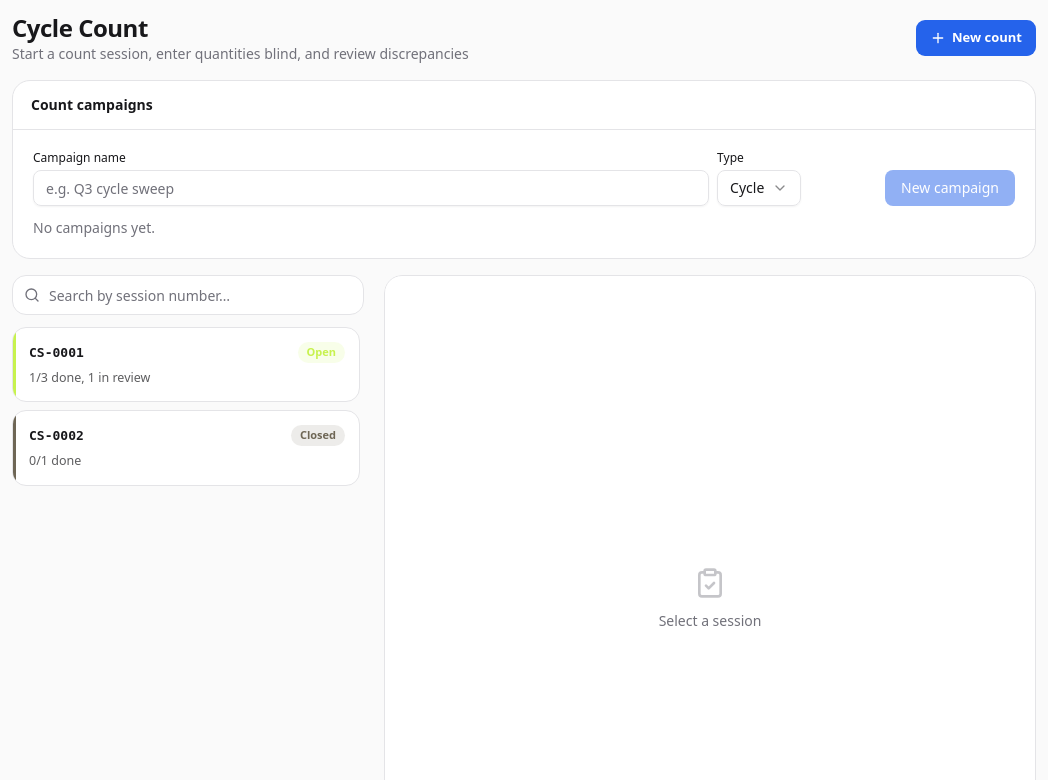
Test: CycleCountPage › order card opens count entry (state 50) and review (state 500) in the pane
The image size is (1048, 780).
Click the button with test id "session-row-1" at (56, 352), box [12, 327, 360, 402]
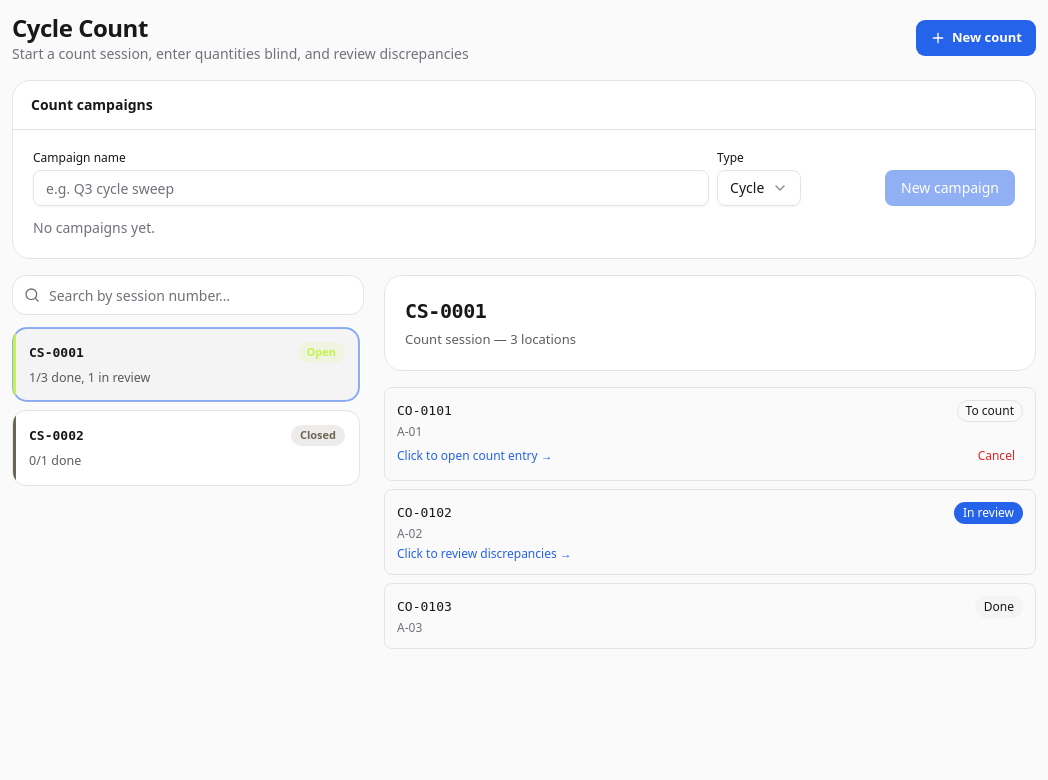
Click the element with test id "order-row-101" at (710, 434), box [384, 386, 1036, 480]
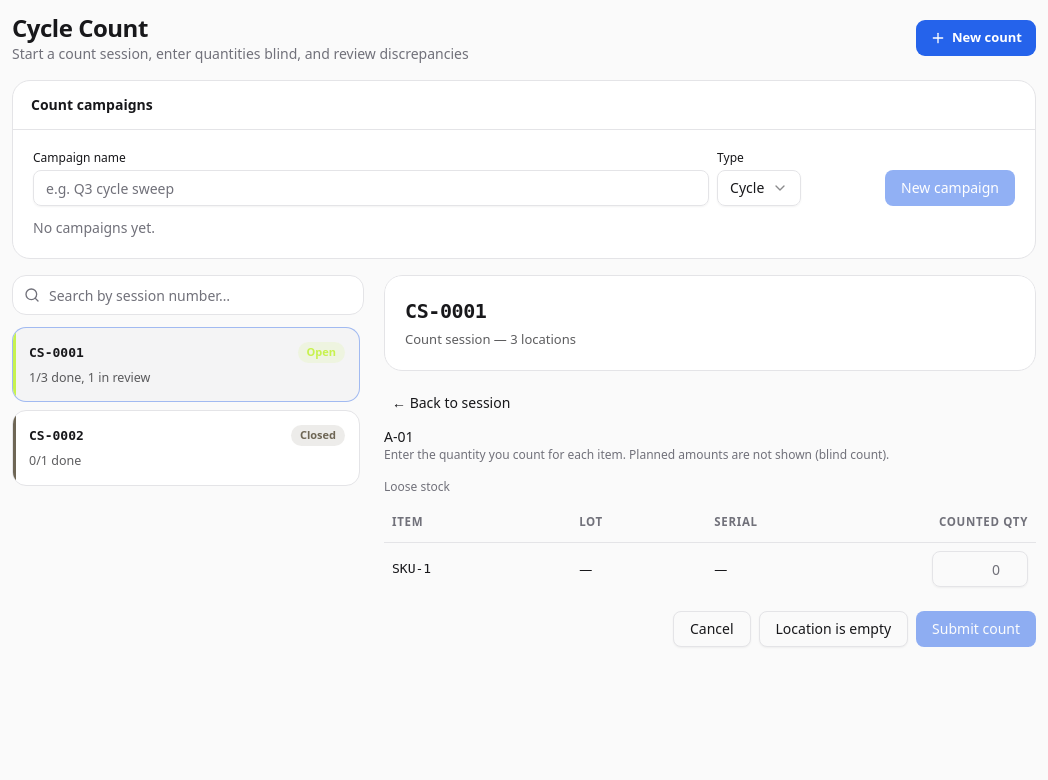
Expected: the element with test id "count-entry-table" is shown, [384, 478, 1036, 595]
Back to session, then open the review order.
Click the button "← Back to session" at (451, 402), box [380, 386, 522, 418]
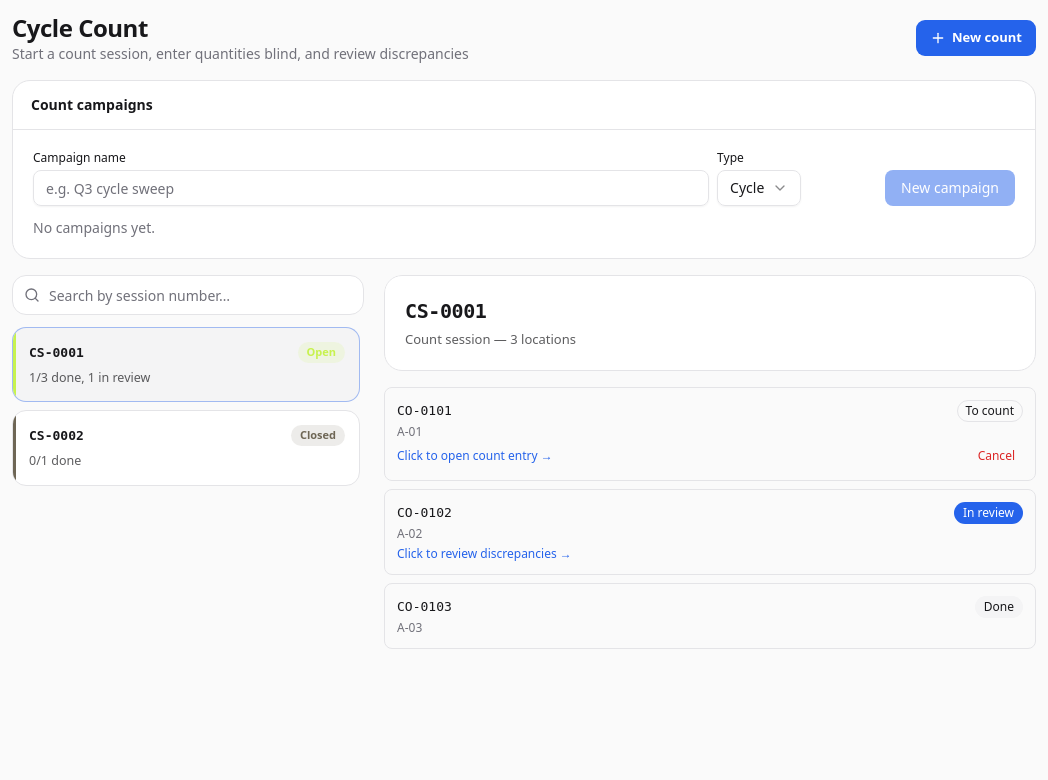
Expected: the element with test id "order-row-102" is shown
Click the element with test id "order-row-102" at (710, 532), box [384, 488, 1036, 574]
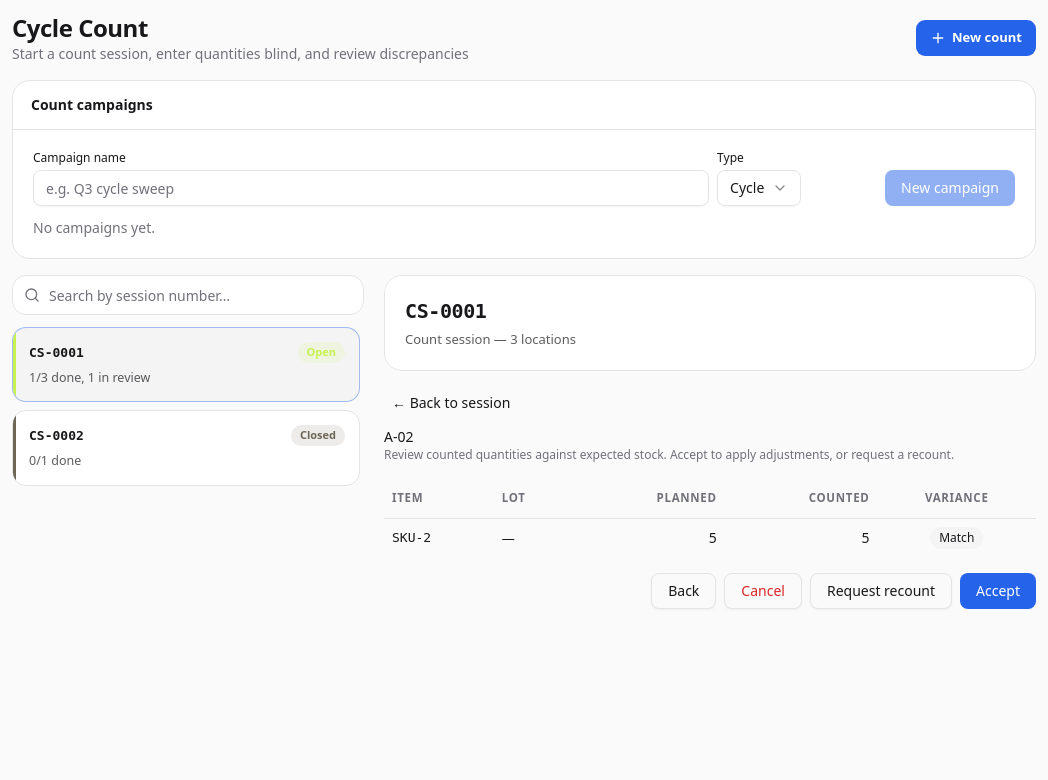
Expected: the element with test id "review-panel" is shown, [384, 426, 1036, 609]
